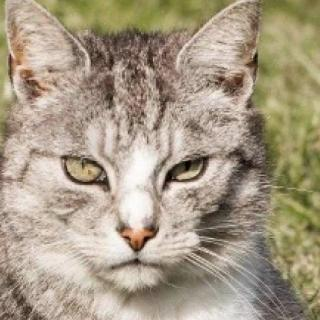cat: (2, 0, 263, 297)
nose: (115, 194, 166, 257)
